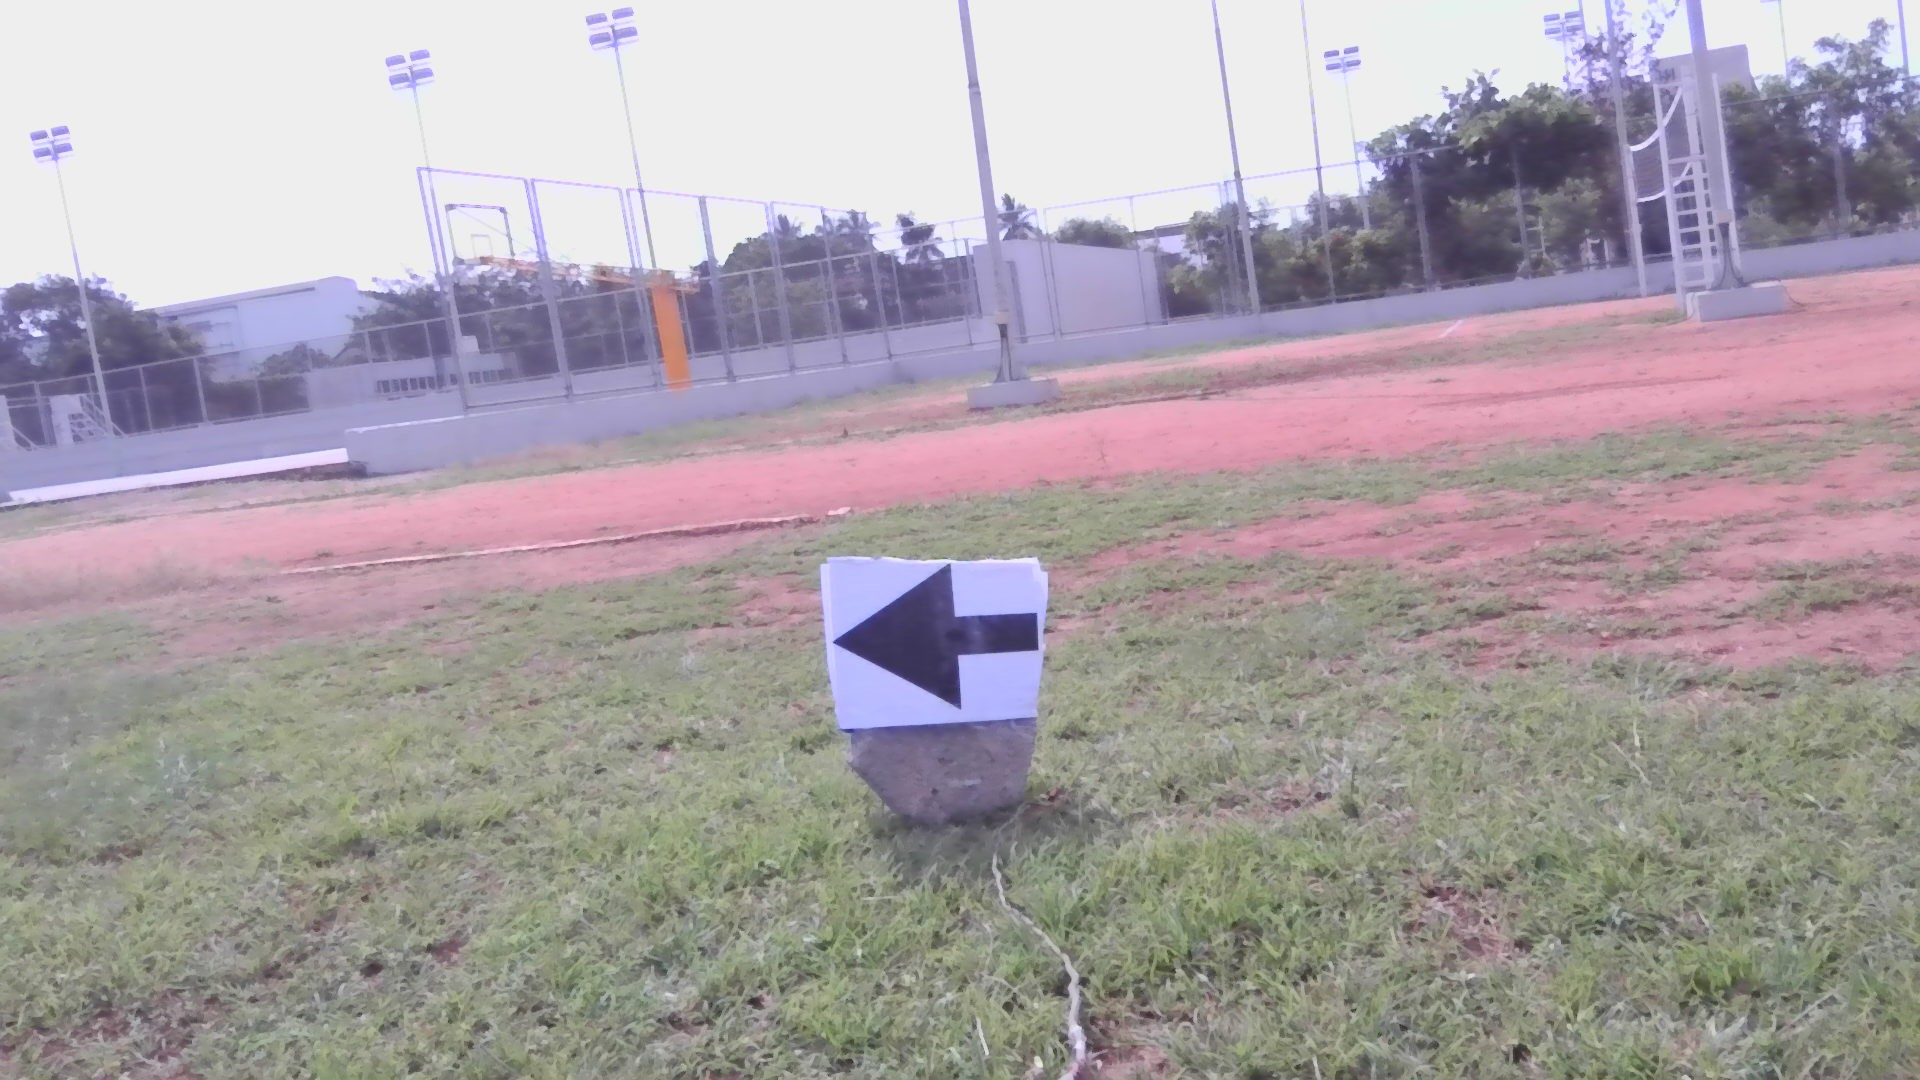leftDir: (822, 566, 1042, 720)
